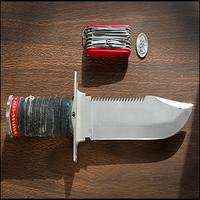knife: (7, 70, 195, 164)
